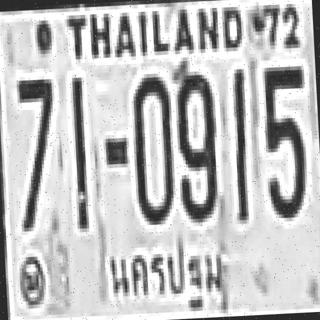N00: (130, 72, 175, 224)
N01: (230, 67, 252, 219), (70, 76, 89, 227)
N05: (260, 62, 309, 215)
N07: (14, 76, 57, 228)
N09: (174, 67, 219, 220)
P28: (102, 230, 232, 318)
